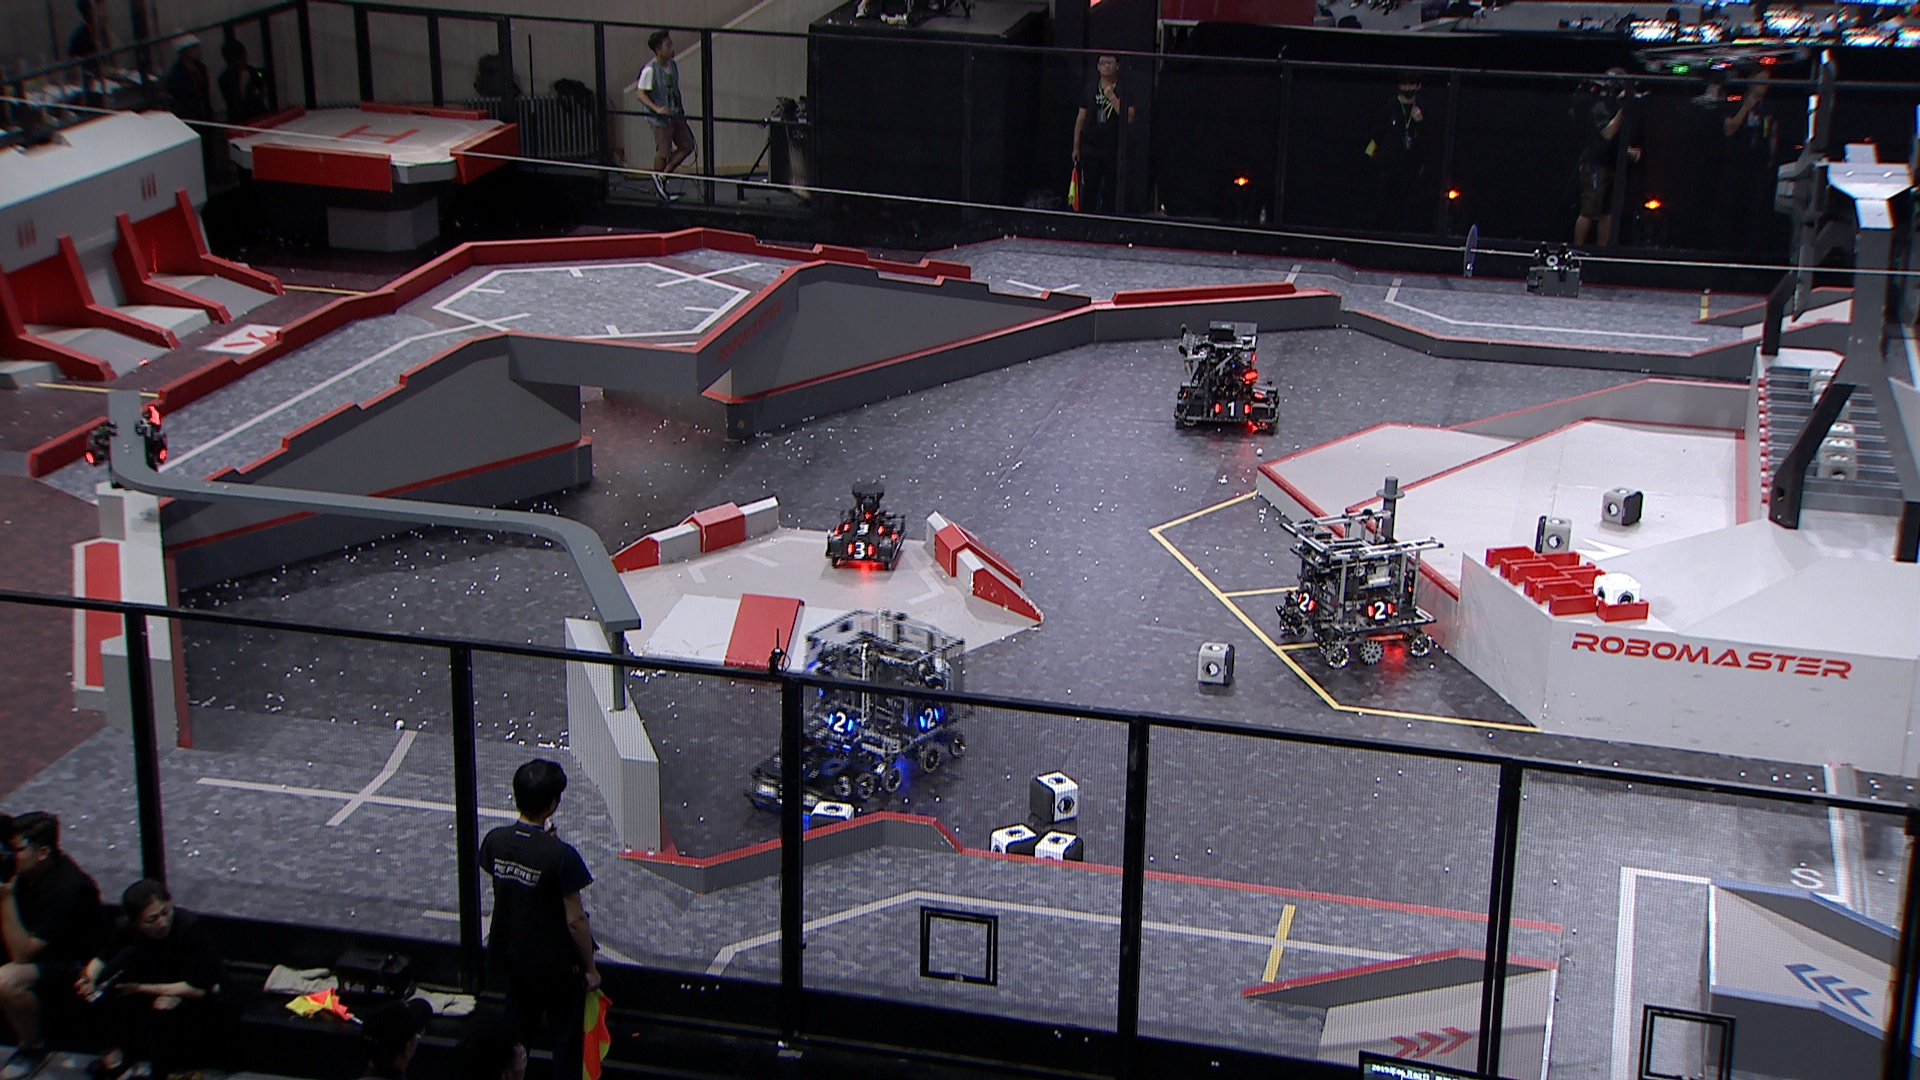armor: (1212, 400, 1251, 419), (841, 520, 885, 537), (1365, 599, 1395, 622), (916, 705, 942, 733), (825, 712, 855, 735), (847, 541, 877, 559), (1295, 589, 1317, 613), (831, 774, 855, 796), (1250, 386, 1269, 401)
car: (802, 607, 969, 793), (1271, 509, 1441, 669), (741, 716, 880, 816), (1172, 320, 1280, 436), (822, 481, 906, 570)
watcher: (82, 404, 169, 489)
